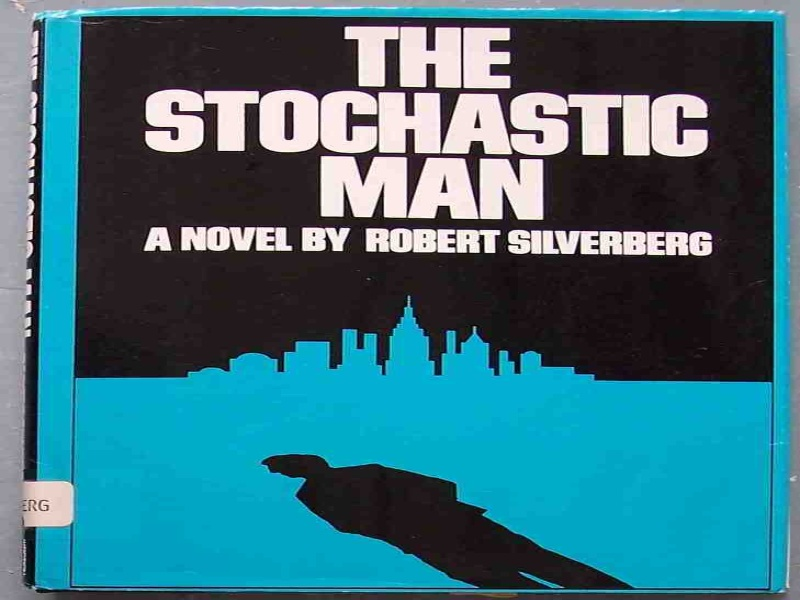book: (24, 1, 799, 600)
